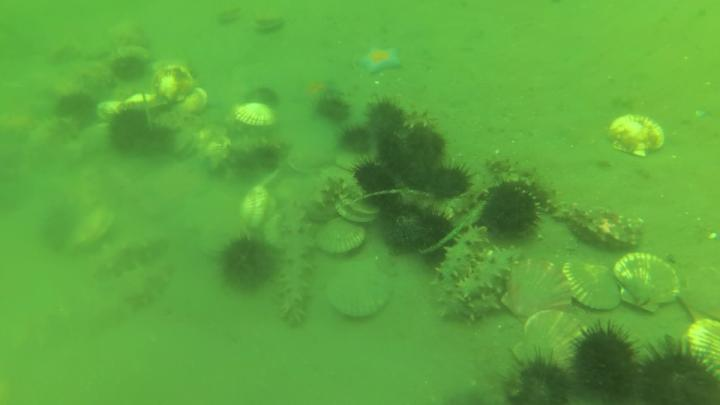echinus: (567, 319, 641, 399), (637, 338, 720, 405), (503, 350, 574, 405), (220, 236, 276, 292), (380, 201, 436, 257), (108, 109, 151, 155), (365, 97, 407, 141), (402, 123, 448, 161), (355, 163, 398, 203), (56, 92, 98, 132), (427, 163, 474, 198), (42, 213, 80, 253), (138, 123, 178, 158), (374, 137, 412, 172), (338, 125, 377, 154), (403, 161, 437, 194), (316, 95, 354, 123), (253, 145, 283, 172), (244, 86, 279, 107)
holothurian: (483, 151, 566, 220), (278, 200, 312, 330), (437, 223, 492, 294), (450, 246, 518, 303), (91, 236, 166, 286), (107, 263, 177, 315), (438, 182, 487, 219), (459, 293, 509, 323), (229, 134, 285, 154)
scallop: (509, 305, 591, 372), (610, 247, 684, 318), (501, 253, 576, 321), (323, 260, 400, 326), (561, 257, 623, 313), (608, 110, 668, 163), (683, 313, 720, 380), (313, 221, 370, 259), (331, 190, 382, 226), (76, 207, 118, 250), (151, 64, 197, 103), (241, 184, 273, 231), (234, 103, 281, 130), (173, 87, 212, 118), (246, 10, 289, 34), (335, 150, 378, 173), (262, 214, 287, 252), (215, 1, 249, 28), (123, 90, 161, 113), (96, 100, 124, 125)
starfish: (291, 77, 341, 109), (359, 42, 403, 76)
